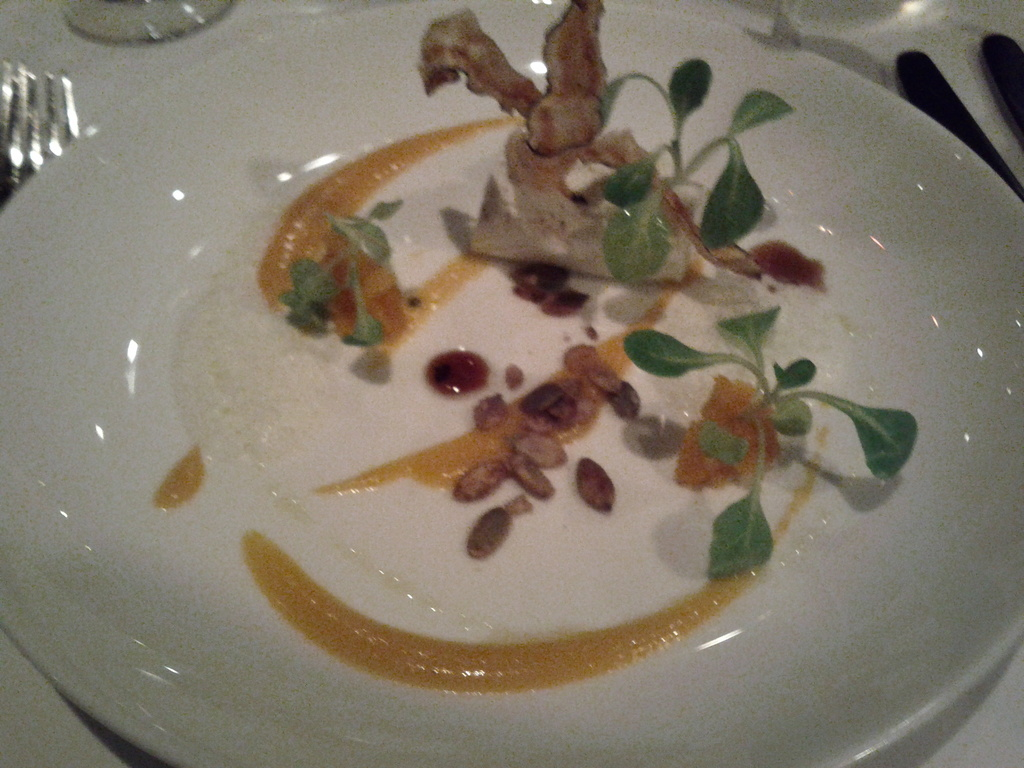plate: (0, 13, 1023, 767)
